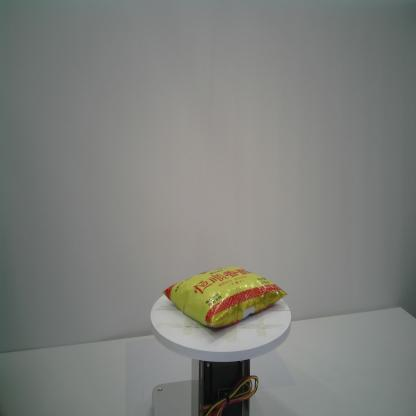Seasoner: (160, 265, 288, 330)
